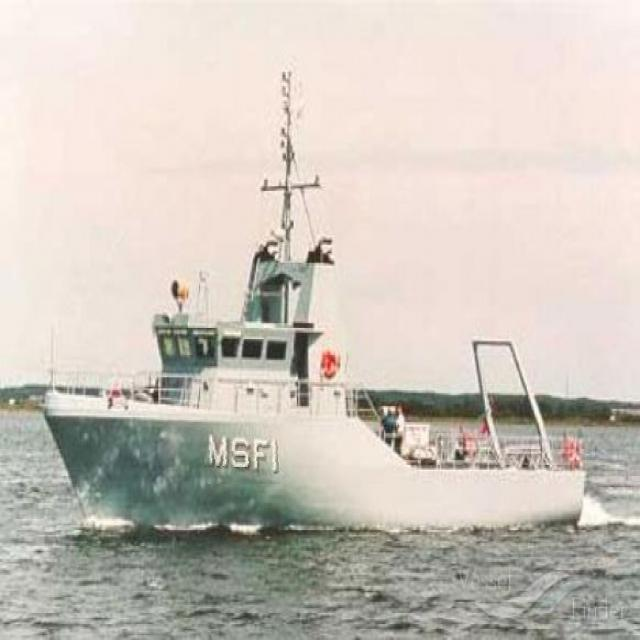OCR: (201, 428, 291, 484)
